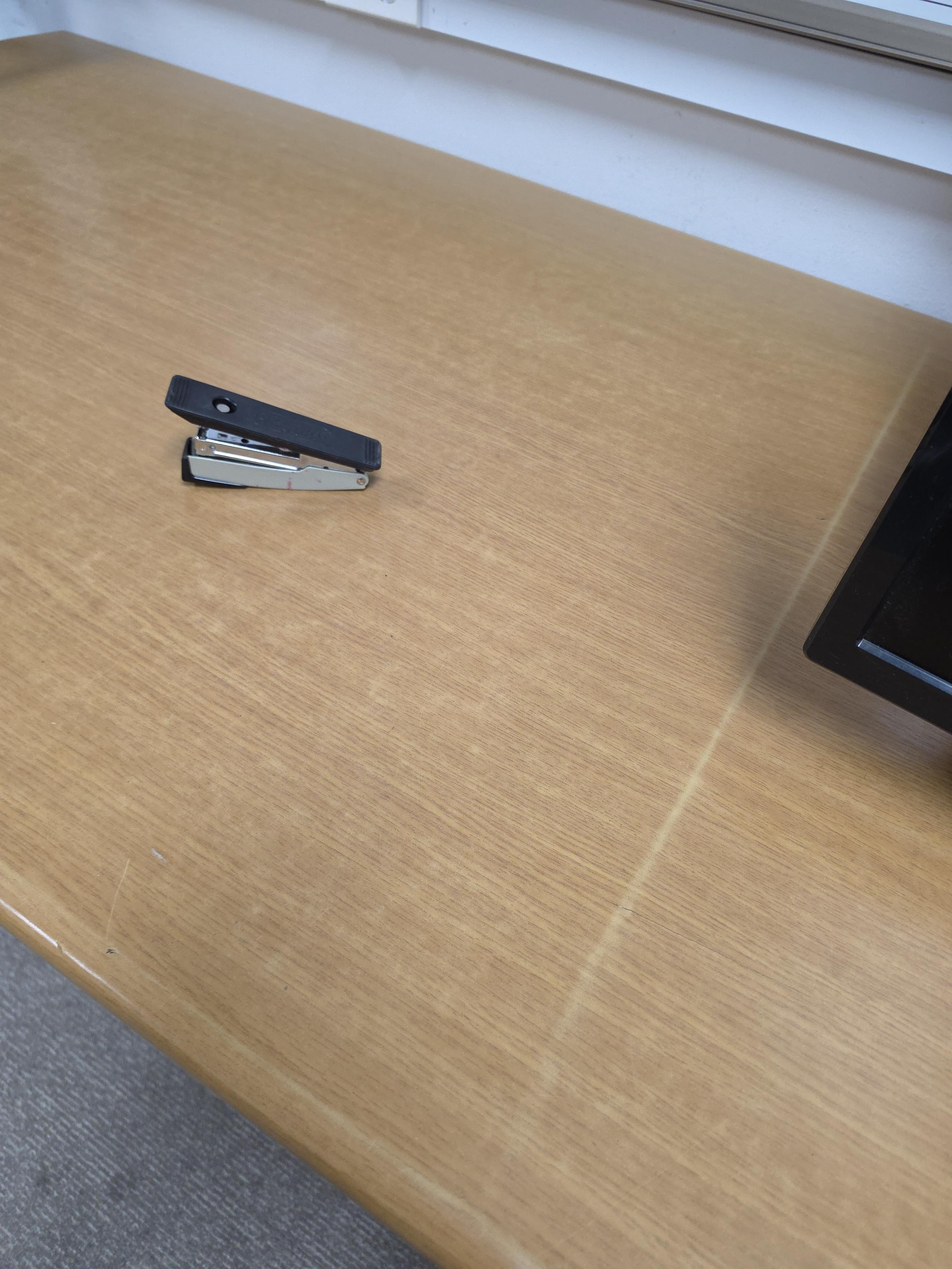stapler: (165, 375, 382, 492)
